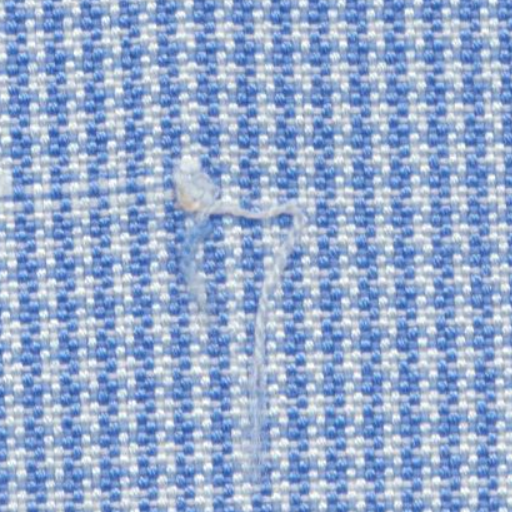DuanSha: (153, 151, 328, 487)
